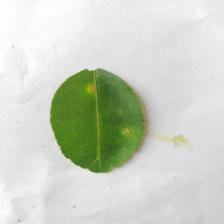canker: (82, 82, 145, 143)
